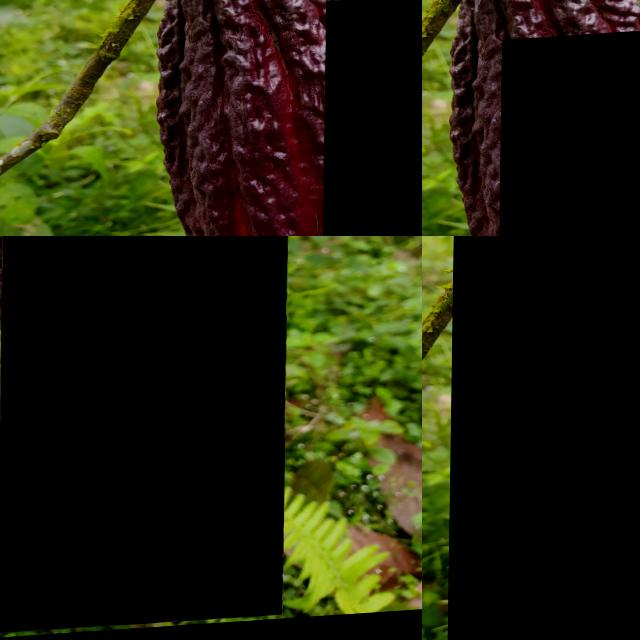Monilia: (323, 0, 422, 236)
Sana: (0, 236, 290, 636), (448, 236, 640, 640), (499, 31, 640, 236)
